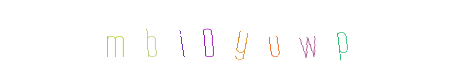0: (195, 0, 275, 80)
B: (111, 0, 191, 80)
I: (160, 0, 240, 80)
M: (75, 0, 155, 80)
P: (302, 0, 382, 80)
U: (245, 0, 325, 80)
W: (252, 0, 332, 80)
Y: (215, 0, 295, 80)
